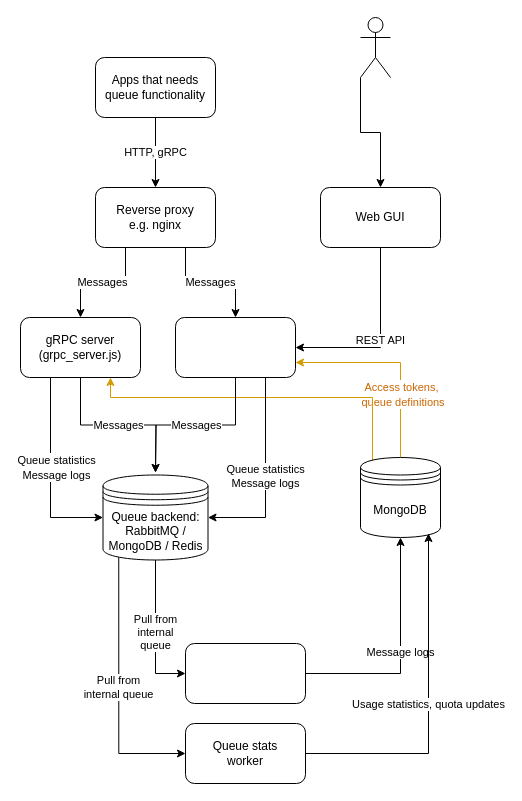
The diagram is 522 pixels wide and 801 high, and some of its shapes have lost their labels. Each missing label, with the centre of its shape:
"Core API (app.js)" belongs at point 235,347.
"Message log worker" belongs at point 245,673.
"Qutrunk user" belongs at point 375,47.
